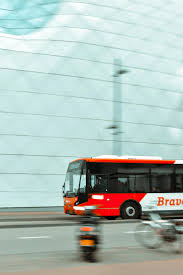bus: (63, 154, 183, 218)
